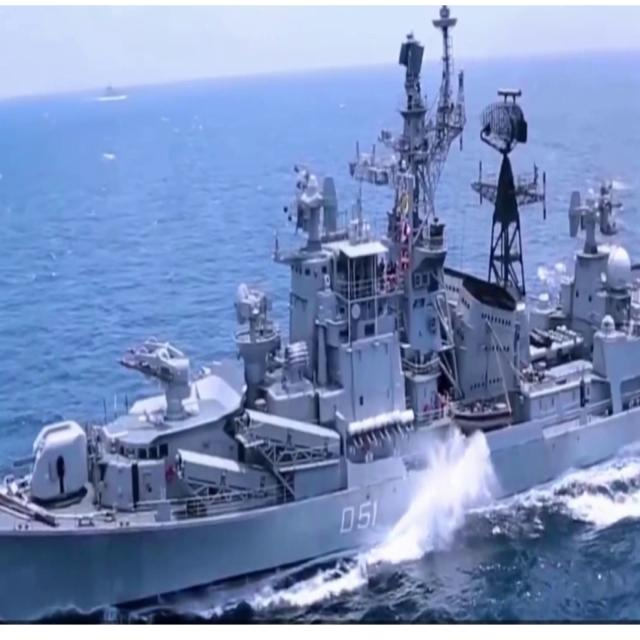OCR: (334, 489, 386, 549)
